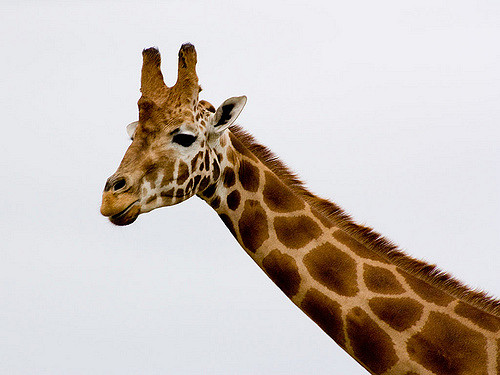giraffe: (98, 44, 493, 370)
